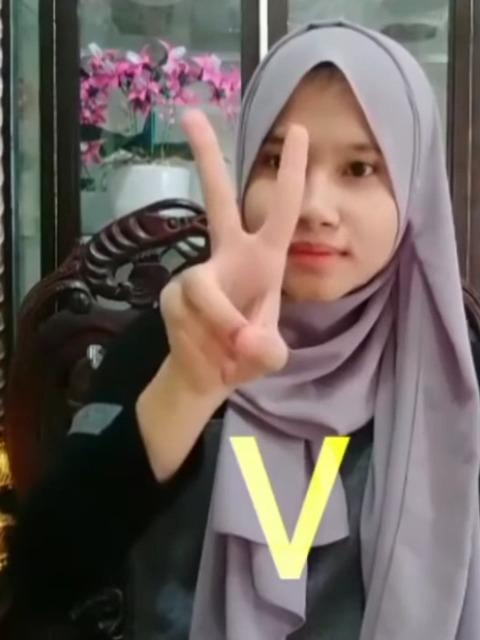V: (153, 105, 315, 389)
